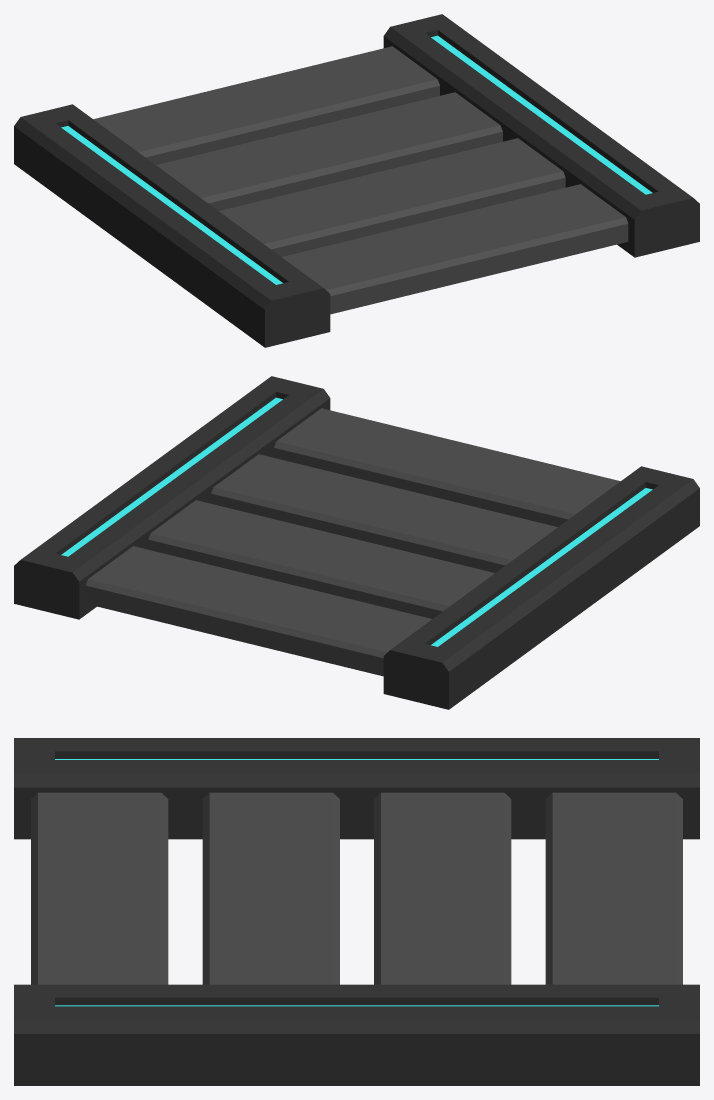
Rendered from HJD_SFB_Bridge_01.fbx.
The picture shows the model from 3 angles, top to bottom: view 1: azimuth 30°, elevation 25°; view 2: azimuth 150°, elevation 25°; view 3: azimuth 270°, elevation 25°; orthographic projection. The views are drawn at different scales.
Visible parts, largest first — view 1: HJD_SFB_Asset; view 2: HJD_SFB_Asset; view 3: HJD_SFB_Asset.
Boxes of the visible parts, left/top/right/bottom form: HJD_SFB_Asset: left=14, top=14, right=699, bottom=347; HJD_SFB_Asset: left=14, top=376, right=699, bottom=709; HJD_SFB_Asset: left=14, top=738, right=699, bottom=1085.
Size of the model in its own units: 100 by 10 by 100.
